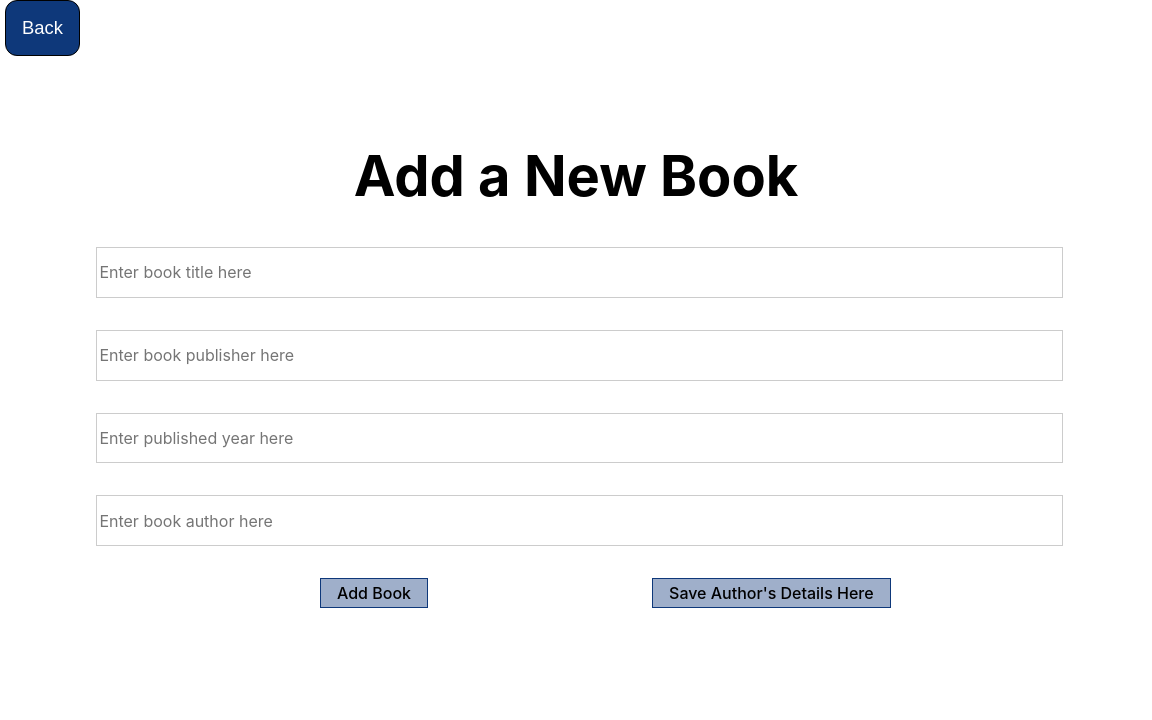
Test: AddBook › Test error if text-based input is null
In the field with placeholder "Enter book publisher here": (579, 355) [96,330,1063,381], type "012345678901234567890123456789012345678912345"
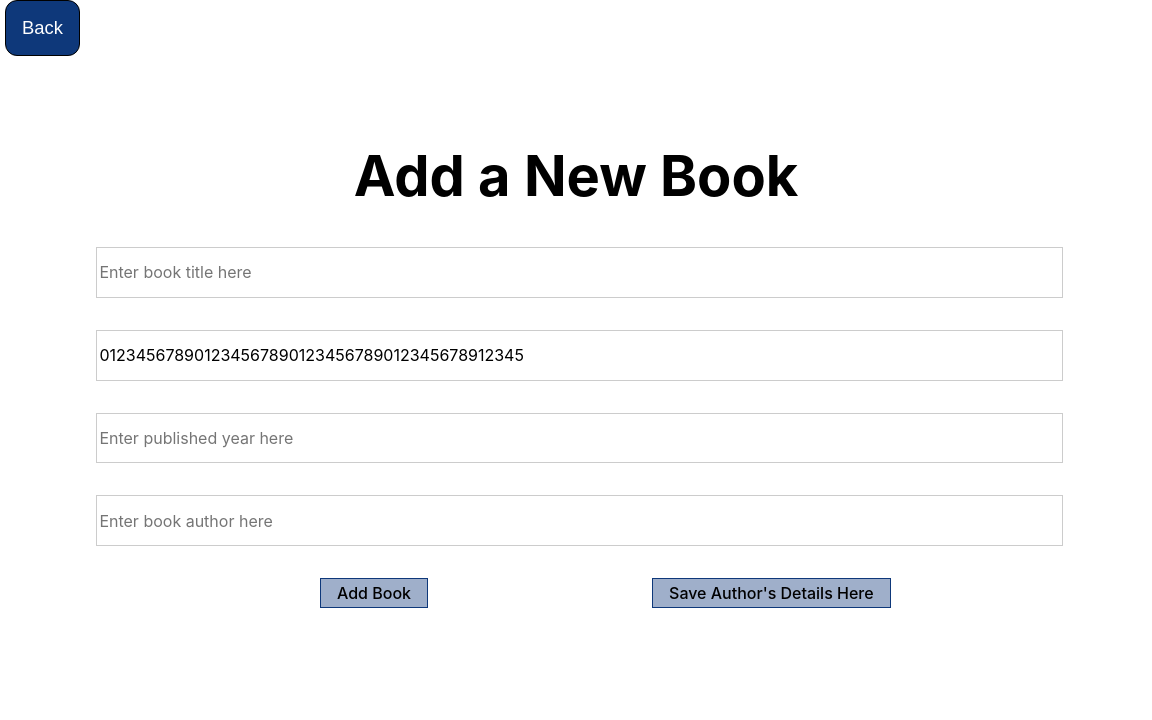
In the number field with placeholder "Enter published year here": (579, 438) [96,413,1063,463], type "2020"
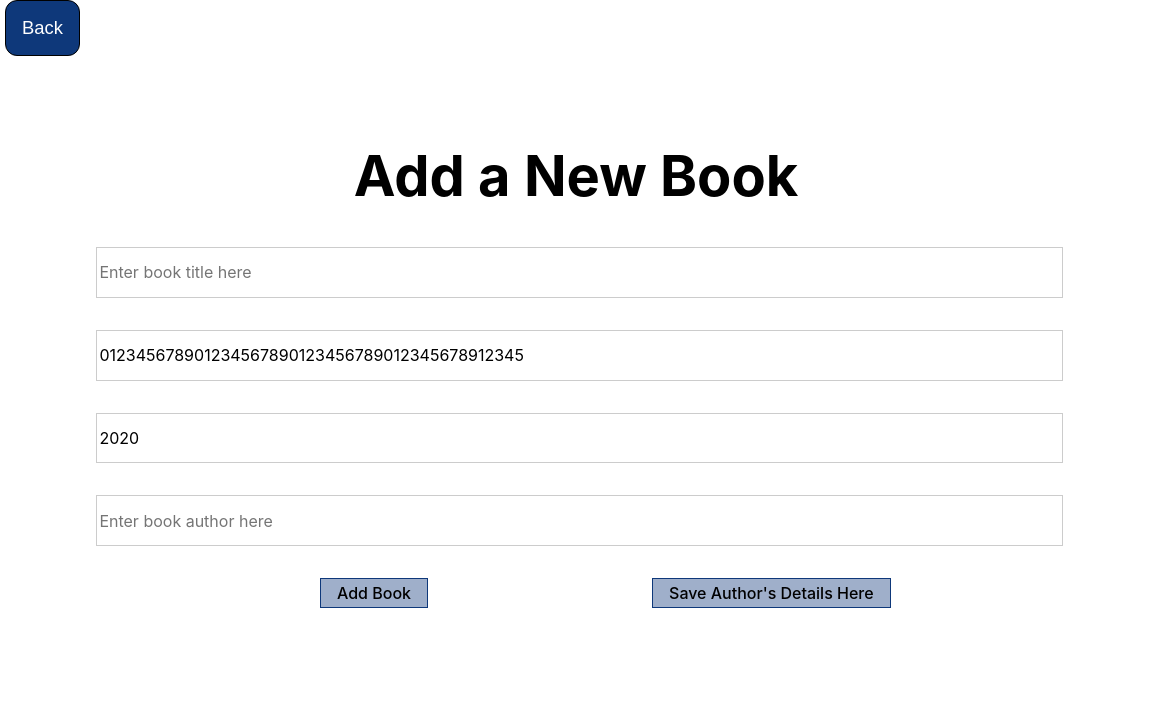
In the field with placeholder "Enter book author here": (579, 521) [96,495,1063,546], type "012345678901234567890123456789012345678912345"
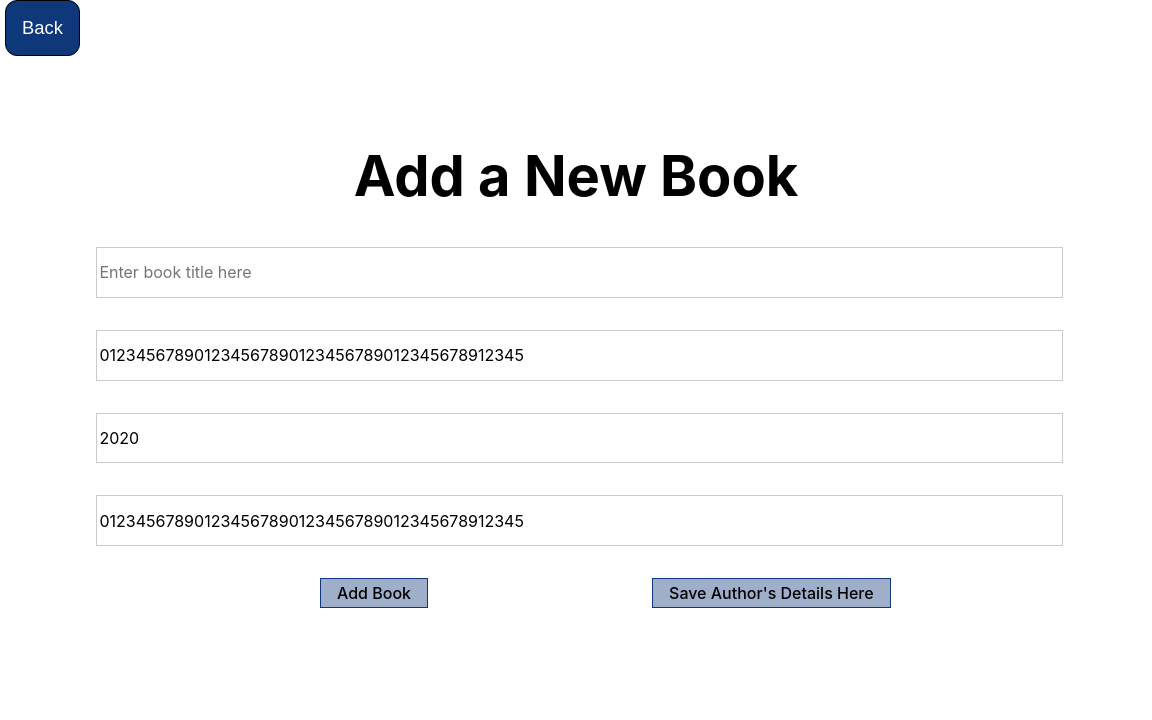
# Click add book button on the component
Click the button "Add Book": (374, 593) [320,578,428,608]
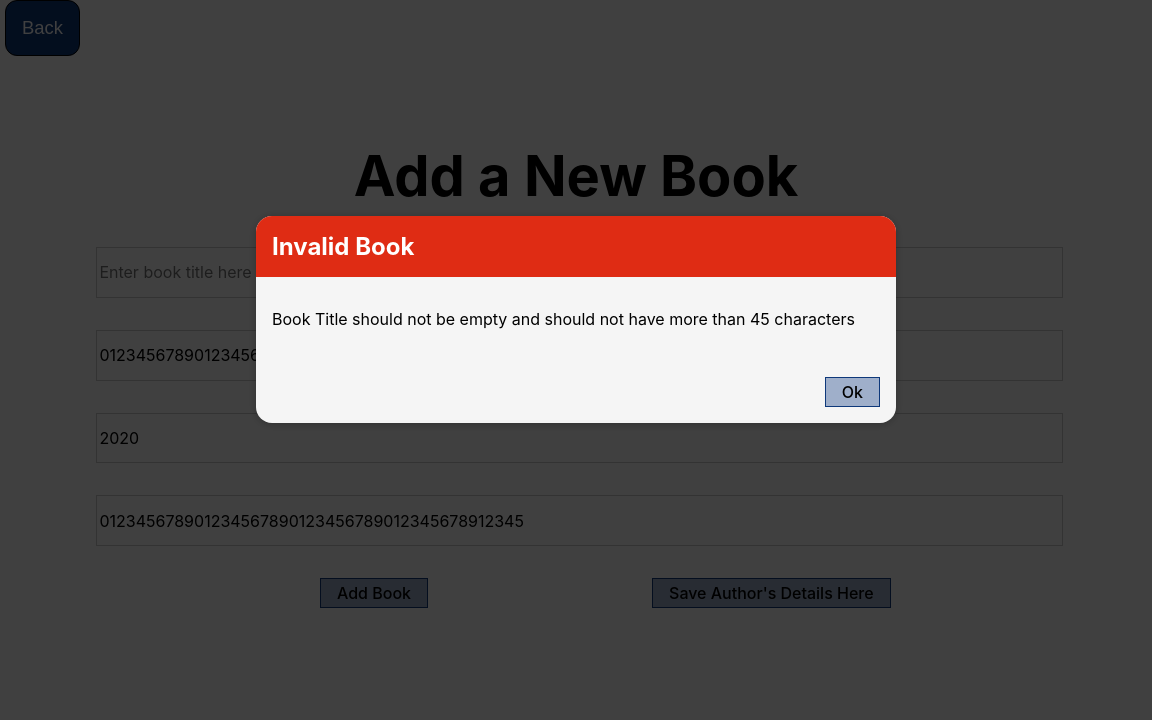
Expected: the heading "Invalid Book" is shown, [272,232,414,261]
Expected: the text "Book Title should not be empty and should not have more than 45 characters" is shown, [272,309,880,329]
